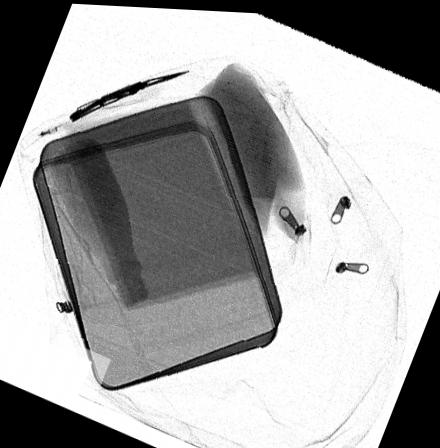Knife: (66, 66, 190, 121)
